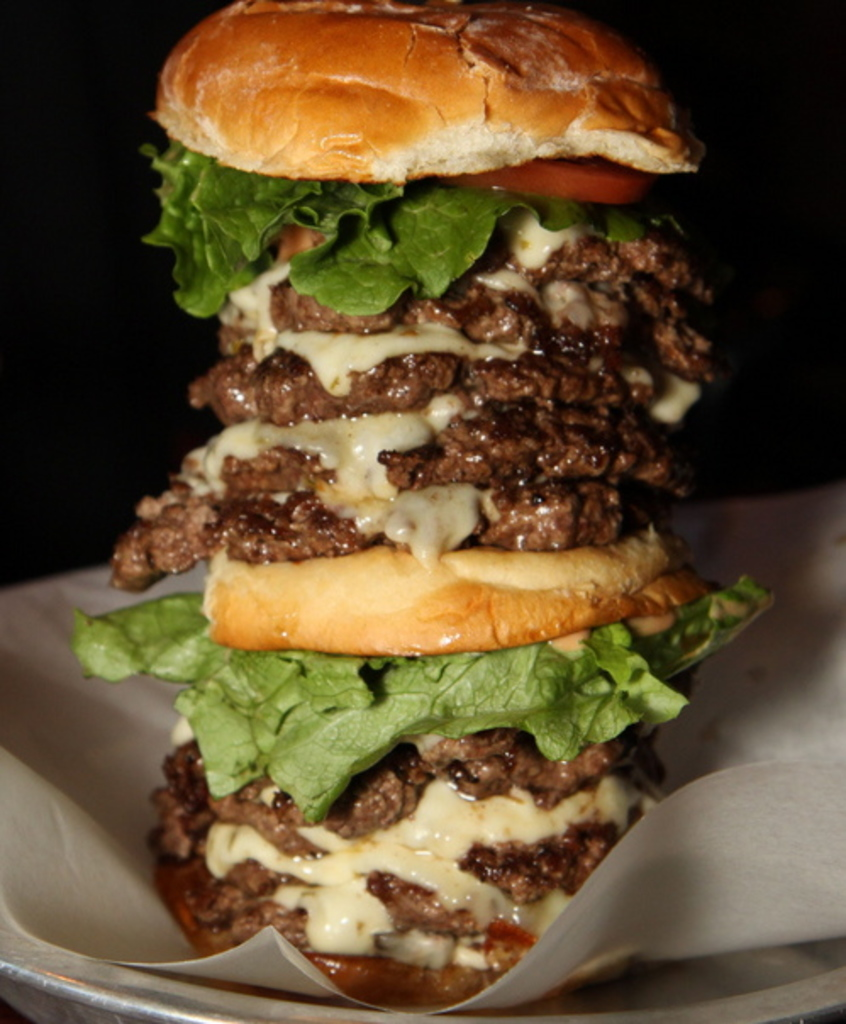Hamburger: (71, 0, 784, 1007)
